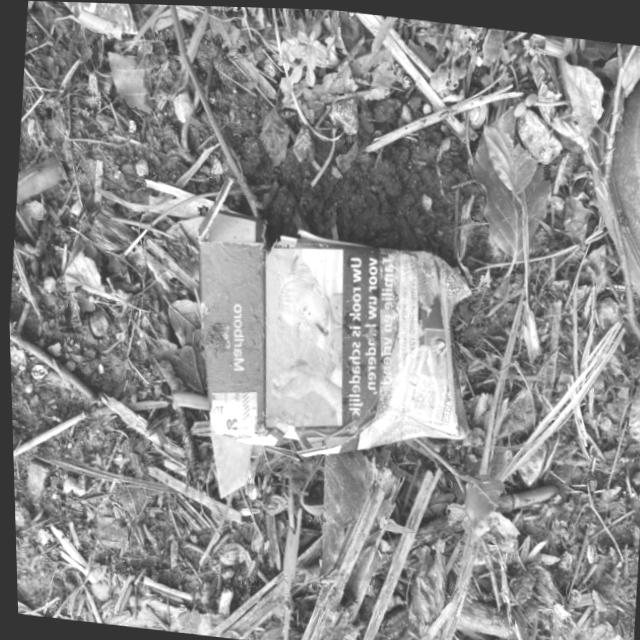Paper: (164, 167, 489, 524)
